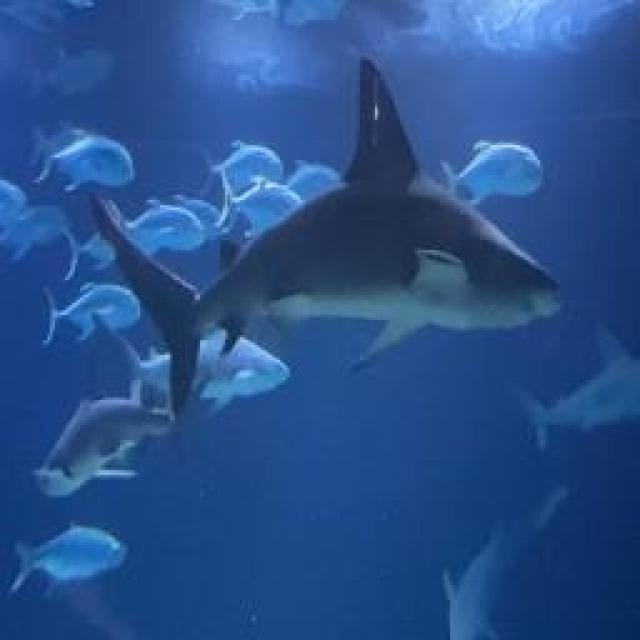primary: (90, 57, 565, 415)
shark: (33, 367, 215, 495), (92, 310, 290, 424), (443, 485, 565, 640), (515, 320, 640, 452)
